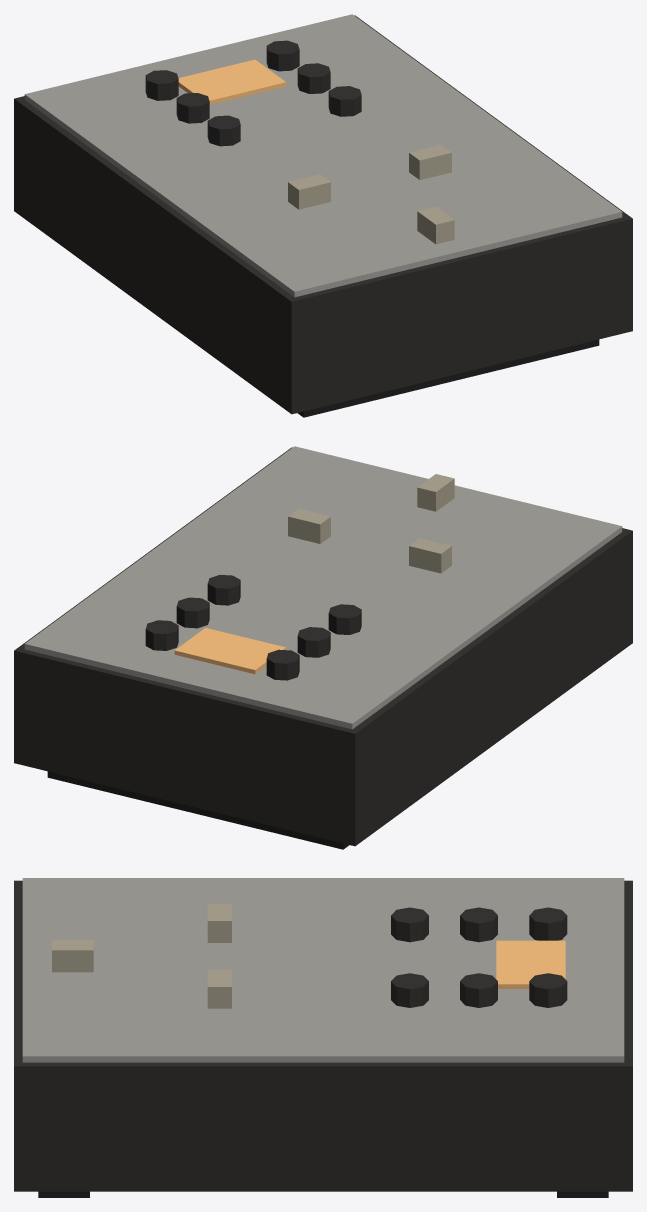
The model's file is dj-mixer-2ch.glb.
3 renders of one model, top to bottom at view 1: azimuth 30°, elevation 25°; view 2: azimuth 150°, elevation 25°; view 3: azimuth 270°, elevation 25°, orthographic. The views are drawn at different scales.
Parts seen in each view (by area): view 1: plastic-dark, brushed, plastic-light, emissive-warm, rubber; view 2: plastic-dark, brushed, plastic-light, emissive-warm, rubber; view 3: brushed, plastic-dark, plastic-light, emissive-warm, rubber.
Part boxes in pixels (box(x1,y1,x2,y2)): plastic-dark: box(14, 15, 632, 414); brushed: box(24, 14, 622, 297); plastic-light: box(288, 145, 454, 244); emissive-warm: box(178, 59, 286, 104); rubber: box(297, 339, 599, 417); plastic-dark: box(14, 447, 632, 846); brushed: box(24, 446, 622, 729); plastic-light: box(288, 474, 454, 573); emissive-warm: box(174, 628, 286, 674); rubber: box(47, 771, 349, 849); brushed: box(22, 878, 624, 1062); plastic-dark: box(14, 880, 632, 1191); plastic-light: box(52, 903, 231, 1008); emissive-warm: box(496, 940, 565, 988); rubber: box(38, 1191, 608, 1197).
Bounding box in the file's own units: 0.254 × 0.11 × 0.358.
